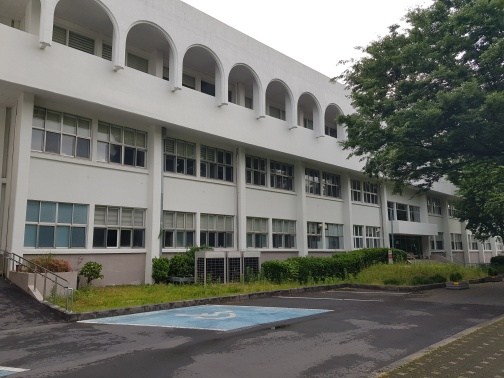Main Building of University: (5, 5, 474, 263), (122, 20, 298, 133), (159, 126, 301, 257), (370, 185, 444, 269)
